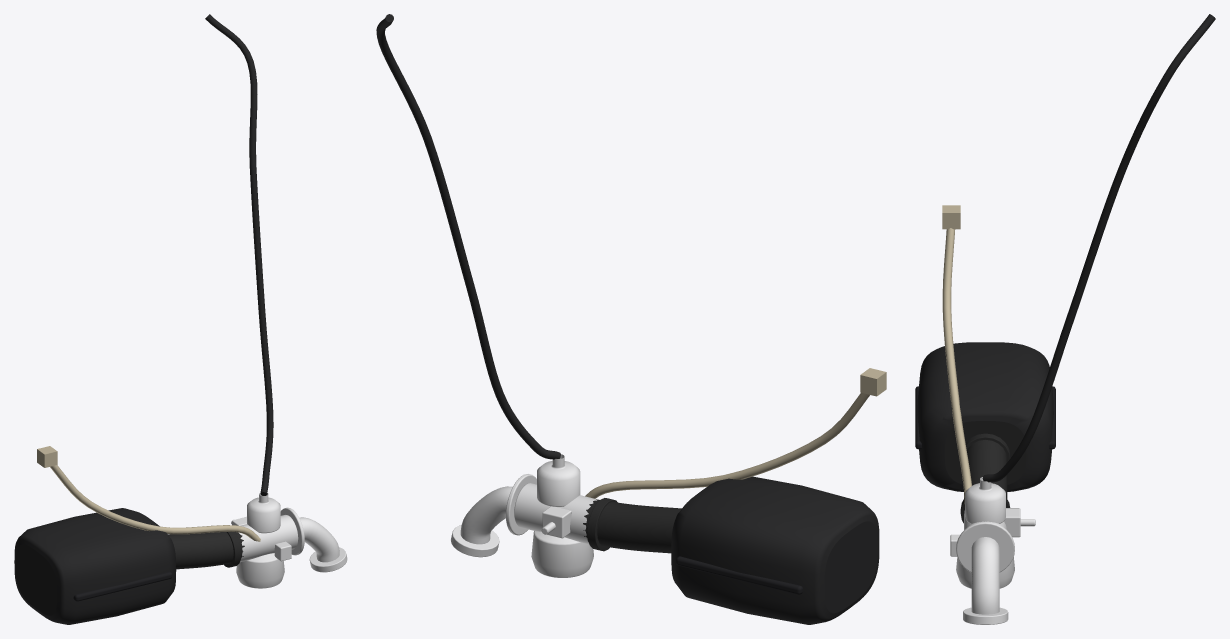
Rendered from bike_step_through__carb.glb.
3 views of the same model, side by side, from view 1: azimuth 30°, elevation 25°; view 2: azimuth 150°, elevation 25°; view 3: azimuth 270°, elevation 25° (orthographic). The views are drawn at different scales.
Visible parts, largest first — view 1: powertrain__intake__air_cleaner, powertrain__intake__carburettor, powertrain__intake__throttle_cable, powertrain__intake__air_hose, powertrain__fuel_system__tap_and_line, powertrain__intake__manifold; view 2: powertrain__intake__air_cleaner, powertrain__intake__carburettor, powertrain__intake__throttle_cable, powertrain__intake__air_hose, powertrain__fuel_system__tap_and_line, powertrain__intake__manifold; view 3: powertrain__intake__air_cleaner, powertrain__intake__throttle_cable, powertrain__intake__carburettor, powertrain__fuel_system__tap_and_line, powertrain__intake__manifold, powertrain__intake__air_hose.
Part boxes in pixels (<box>): powertrain__intake__air_cleaner: <box>14,508,176,624</box>; powertrain__intake__carburettor: <box>231,493,304,588</box>; powertrain__intake__throttle_cable: <box>205,14,273,495</box>; powertrain__intake__air_hose: <box>168,532,244,569</box>; powertrain__fuel_system__tap_and_line: <box>37,446,260,541</box>; powertrain__intake__manifold: <box>299,517,347,572</box>; powertrain__intake__air_cleaner: <box>671,476,879,624</box>; powertrain__intake__carburettor: <box>505,454,597,577</box>; powertrain__intake__throttle_cable: <box>376,14,560,459</box>; powertrain__intake__air_hose: <box>583,498,681,553</box>; powertrain__fuel_system__tap_and_line: <box>585,368,886,498</box>; powertrain__intake__manifold: <box>451,486,512,557</box>; powertrain__intake__air_cleaner: <box>915,342,1055,491</box>; powertrain__intake__throttle_cable: <box>982,14,1215,482</box>; powertrain__intake__carburettor: <box>950,477,1035,588</box>; powertrain__fuel_system__tap_and_line: <box>942,205,971,503</box>; powertrain__intake__manifold: <box>963,537,1008,624</box>; powertrain__intake__air_hose: <box>960,433,1010,523</box>.
Size of the model in its own units: 39.2 by 57.71 by 26.48.
